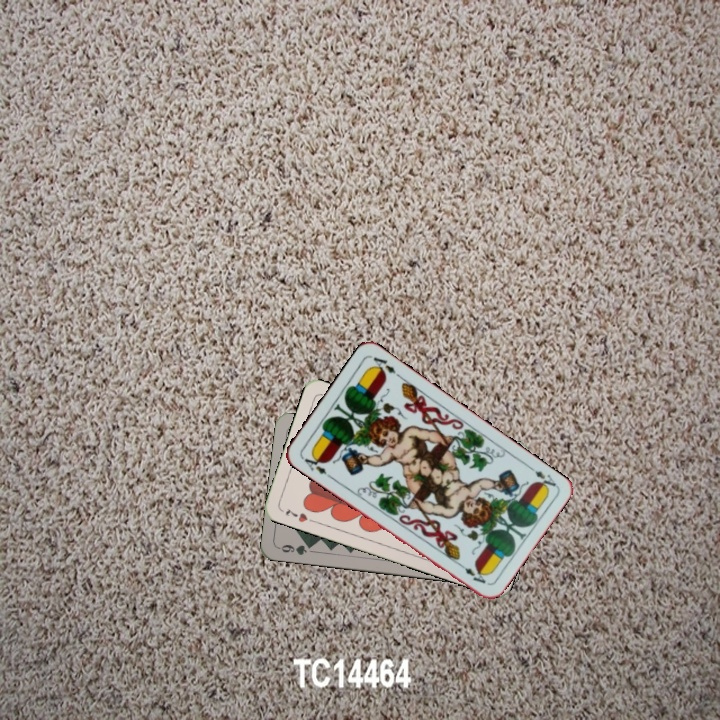EA: (298, 450, 334, 481), (531, 467, 559, 493)
G9: (275, 540, 316, 558)
H7: (281, 505, 318, 525)
